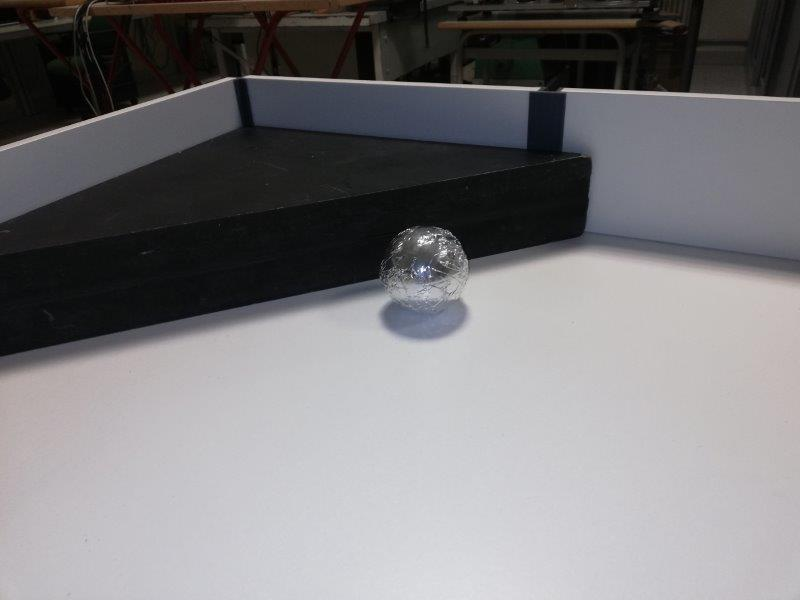bianca: (380, 227, 470, 314)
